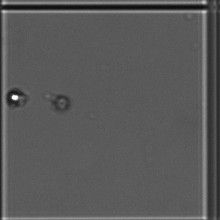Dead Cell: (51, 90, 76, 114)
Living Cell: (6, 85, 27, 110)
